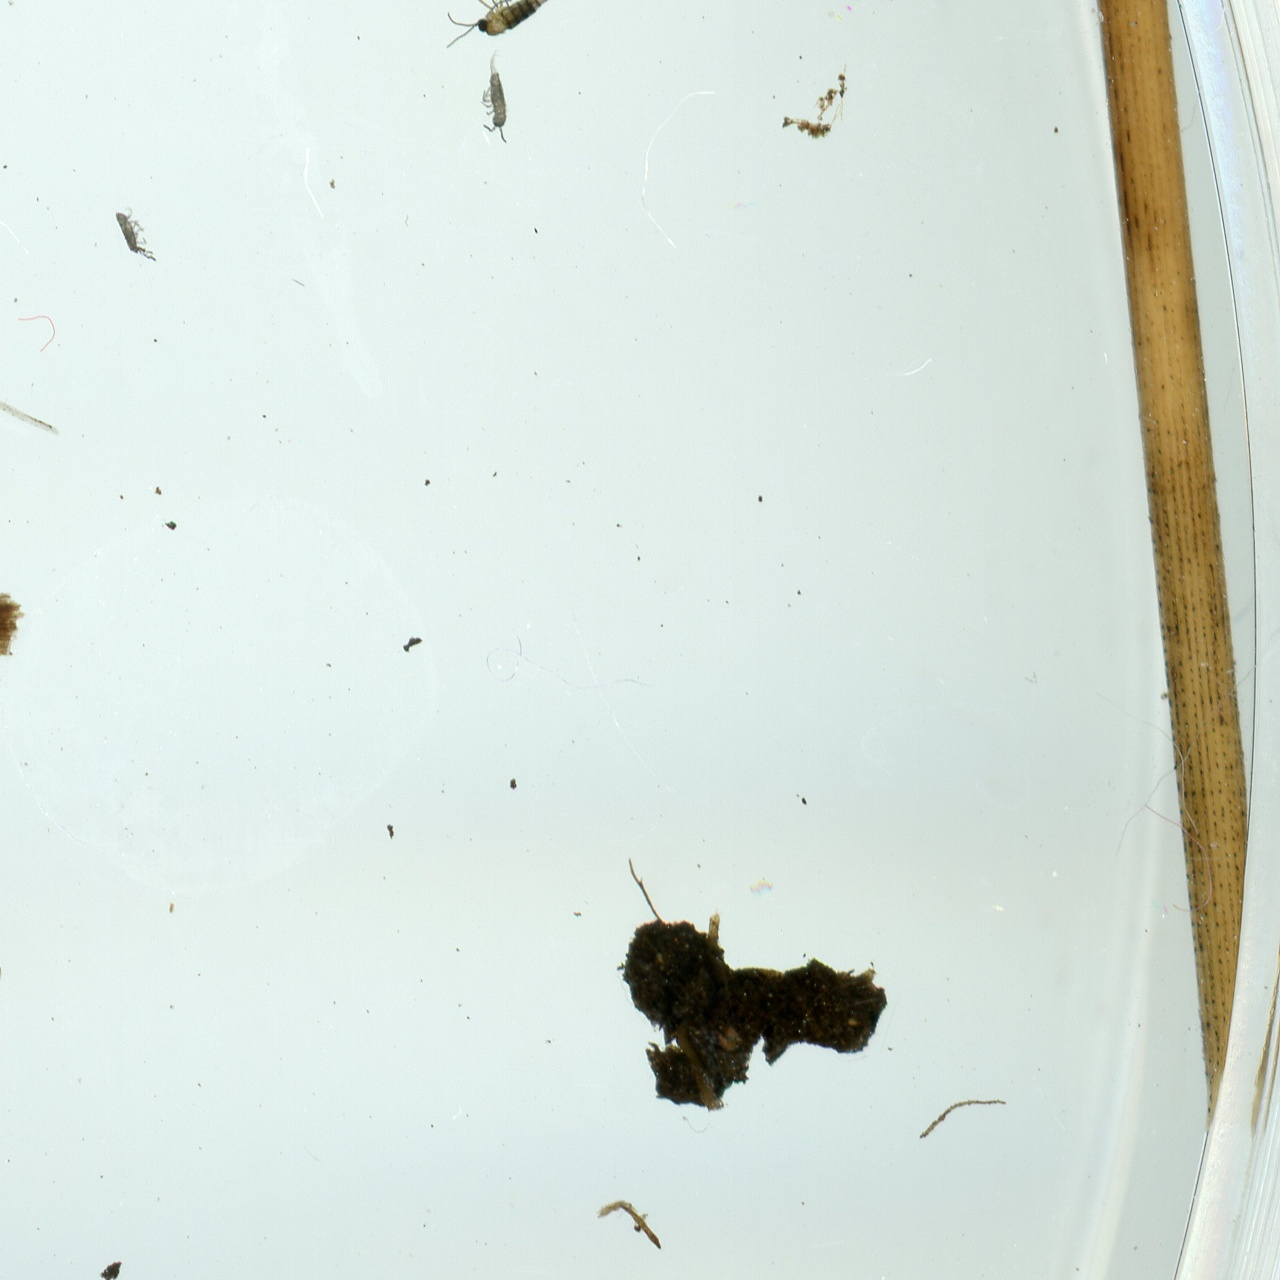arthropod: (418, 0, 586, 86), (474, 40, 518, 152), (109, 200, 163, 268)
